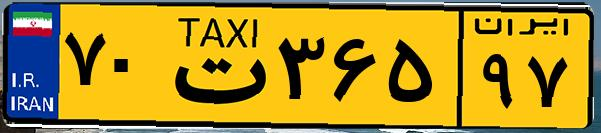0: (110, 28, 158, 98)
3: (270, 28, 330, 110)
5: (385, 28, 445, 110)
6: (330, 28, 385, 110)
7: (57, 26, 110, 100), (525, 38, 570, 115)
9: (475, 38, 525, 113)
ت: (158, 12, 270, 120)
